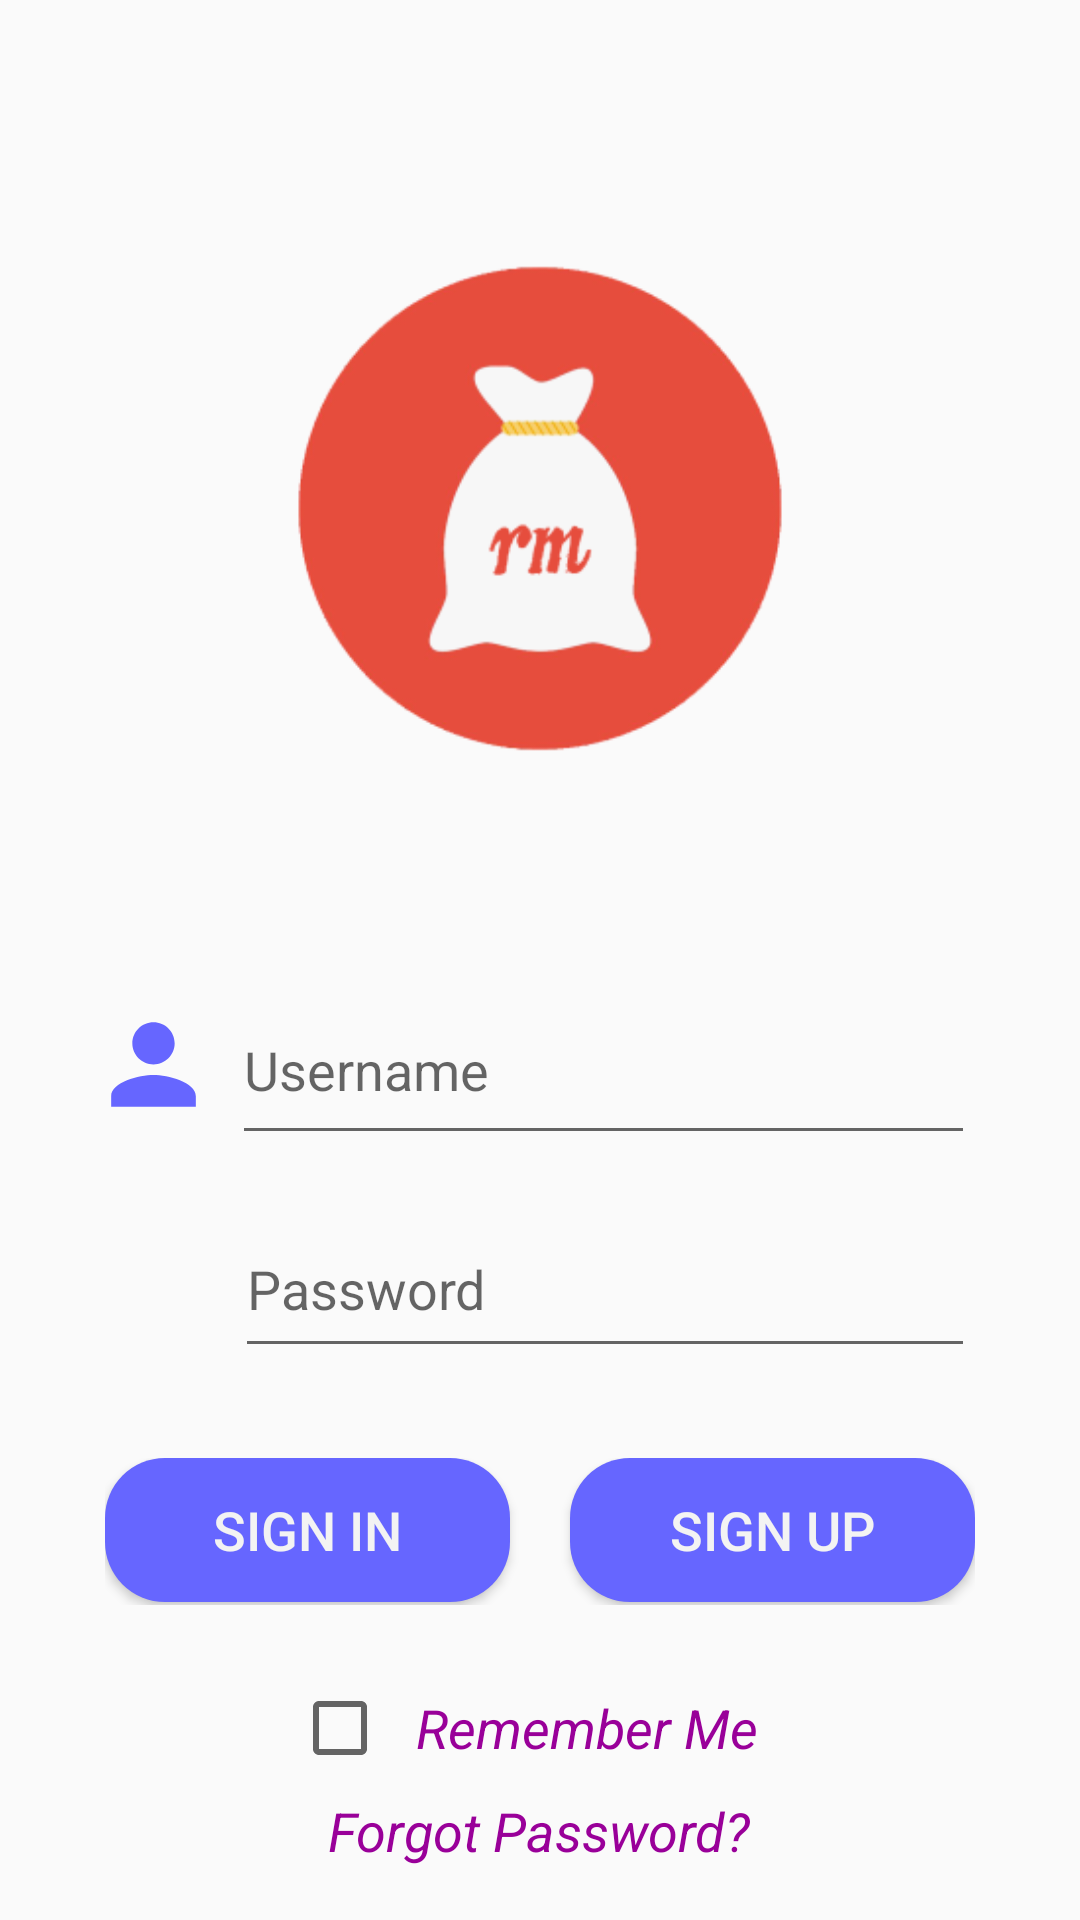

Screen size 1080w x 1920h. Icon name, then its center in pixels as (x=x, y=y):
person: (x=153, y=1064)
